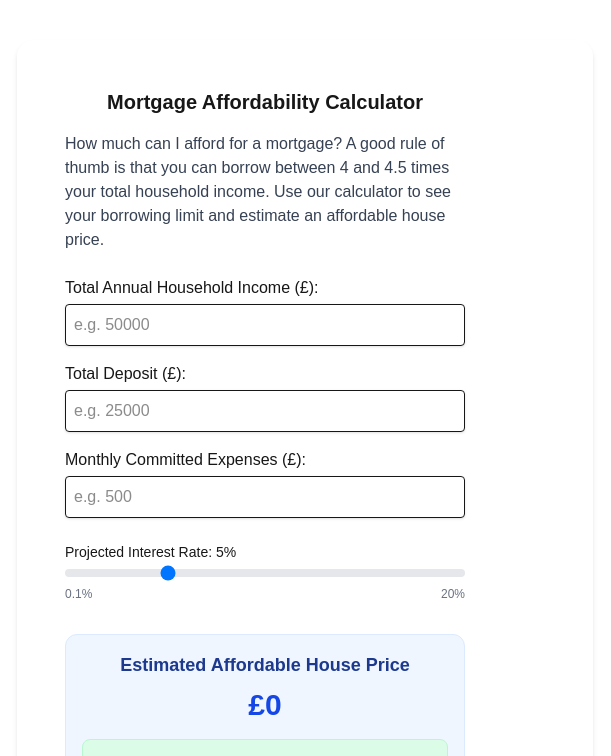
Test: AffordabilityCalculator › shows "Too Many Expenses" when expenses exceed income
Type "24000" into the number field with placeholder "e.g. 50000".
click(265, 325); type("24000")  # box top-left (65, 304), bottom-right (465, 346)
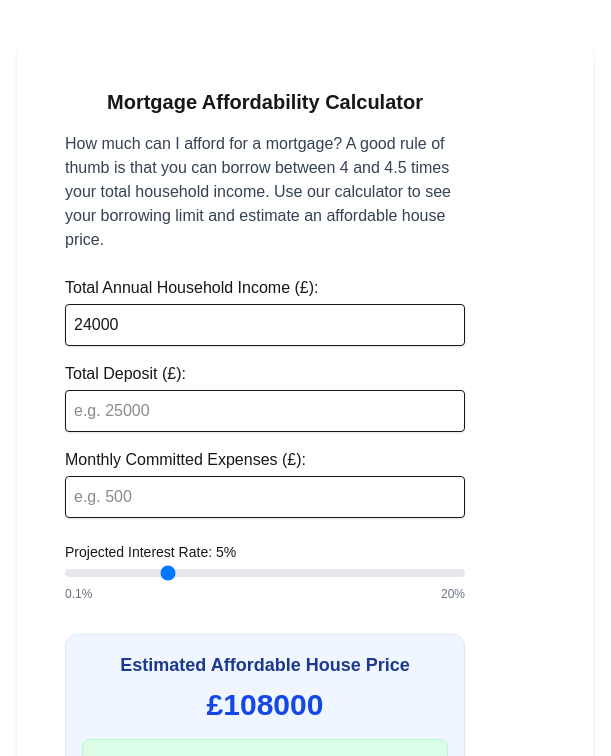
Type "2500" into the number field with placeholder "e.g. 500".
click(265, 497); type("2500")  # box top-left (65, 476), bottom-right (465, 518)
(page scrolled)
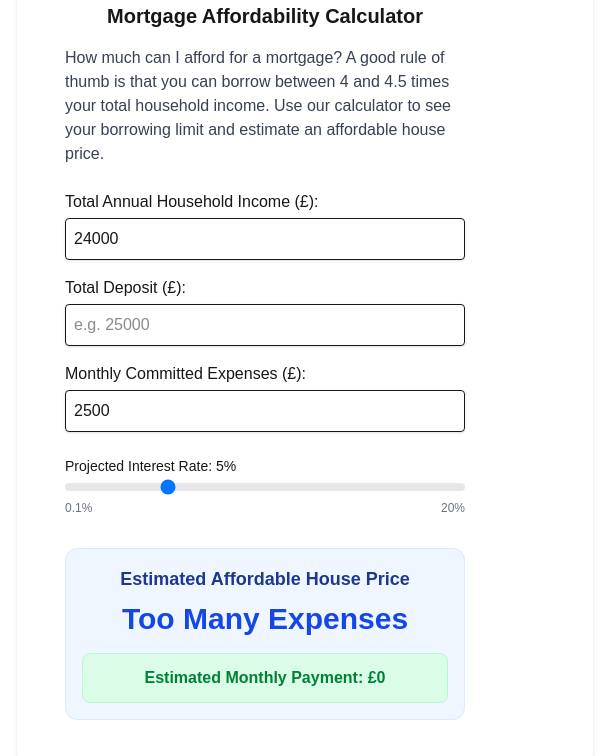
Expected: the text "Too Many Expenses" is shown, top-left (122, 602), bottom-right (408, 635)
Expected: the text "Estimated Monthly Payment: £0" is shown, top-left (82, 653), bottom-right (448, 703)
